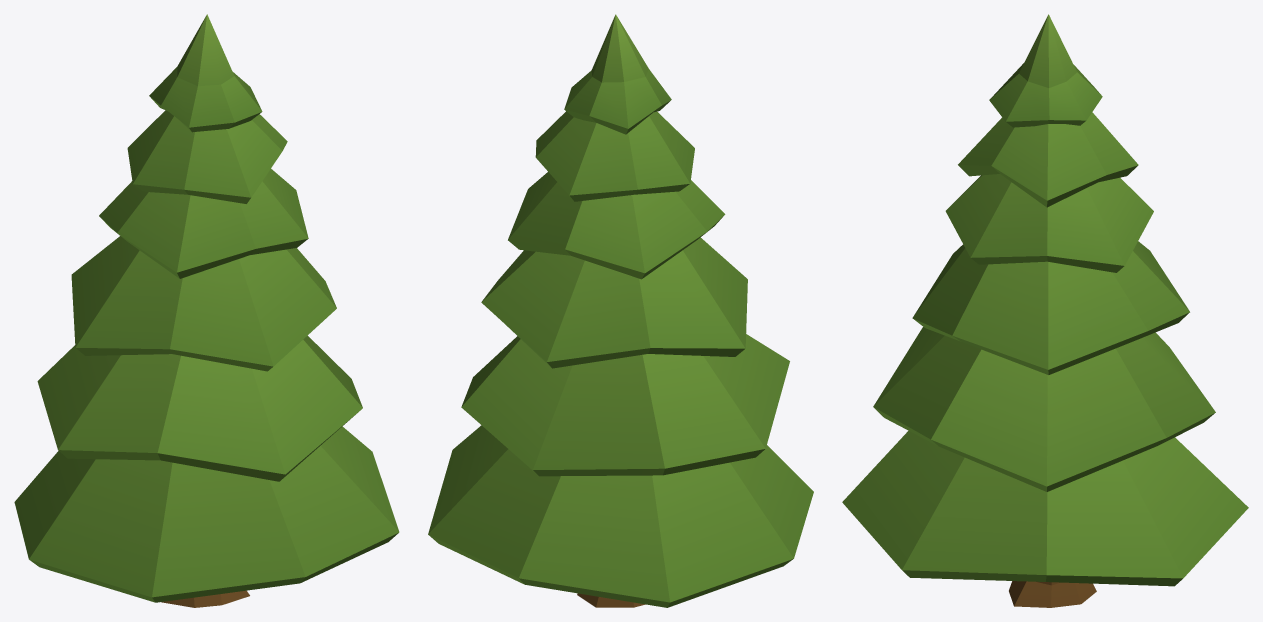
Rendered from tree1.fbx.
The picture shows the model from 3 angles, left to right: view 1: azimuth 30°, elevation 25°; view 2: azimuth 150°, elevation 25°; view 3: azimuth 270°, elevation 25°; orthographic projection.
Visible parts, largest first — view 1: Tree_Spruce_average_01; view 2: Tree_Spruce_average_01; view 3: Tree_Spruce_average_01.
Boxes of the visible parts, <box> form: Tree_Spruce_average_01: <box>14,14,399,607</box>; Tree_Spruce_average_01: <box>428,14,813,607</box>; Tree_Spruce_average_01: <box>842,14,1248,607</box>.
Size of the model in its own units: 57.2 by 91.8 by 58.39.
Materials: 1 (1 with a texture image).
